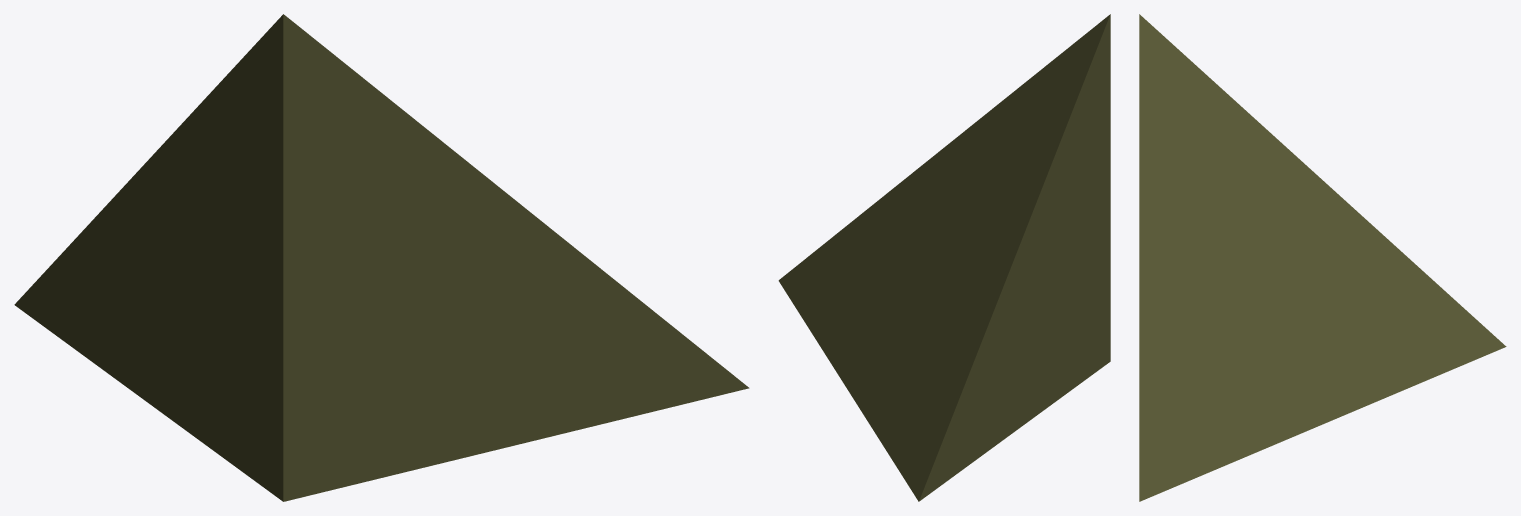
The model's file is carbon-fiber-corner.glb.
3 views of the same model, side by side, from view 1: azimuth 30°, elevation 25°; view 2: azimuth 150°, elevation 25°; view 3: azimuth 270°, elevation 25° (orthographic). The views are drawn at different scales.
Visible parts, largest first — view 1: carbon-fiber-corner; view 2: carbon-fiber-corner; view 3: carbon-fiber-corner.
Part boxes in pixels (x1=…): carbon-fiber-corner: x1=14, y1=14, x2=749, y2=501; carbon-fiber-corner: x1=778, y1=14, x2=1110, y2=501; carbon-fiber-corner: x1=1139, y1=14, x2=1506, y2=501.
Size of the model in its own units: 1 by 1 by 1.
